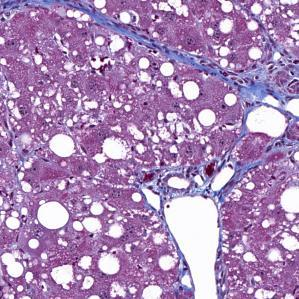fibrosis: (167, 52, 287, 89)
